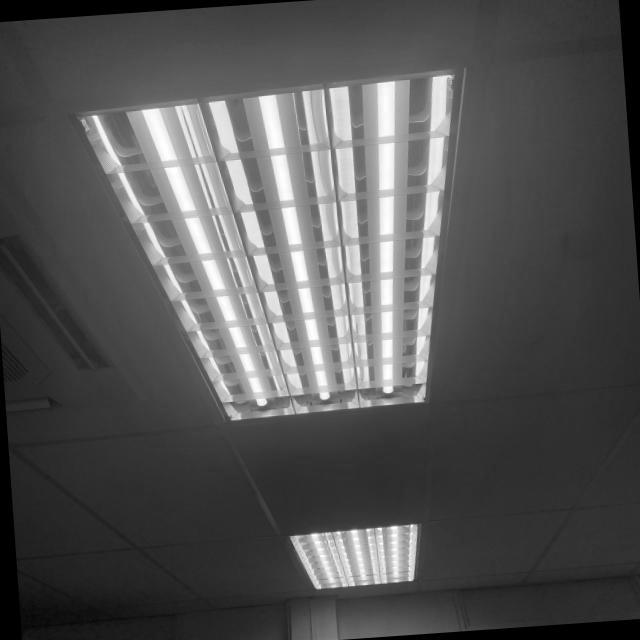light: (77, 67, 461, 423), (288, 522, 419, 590)
